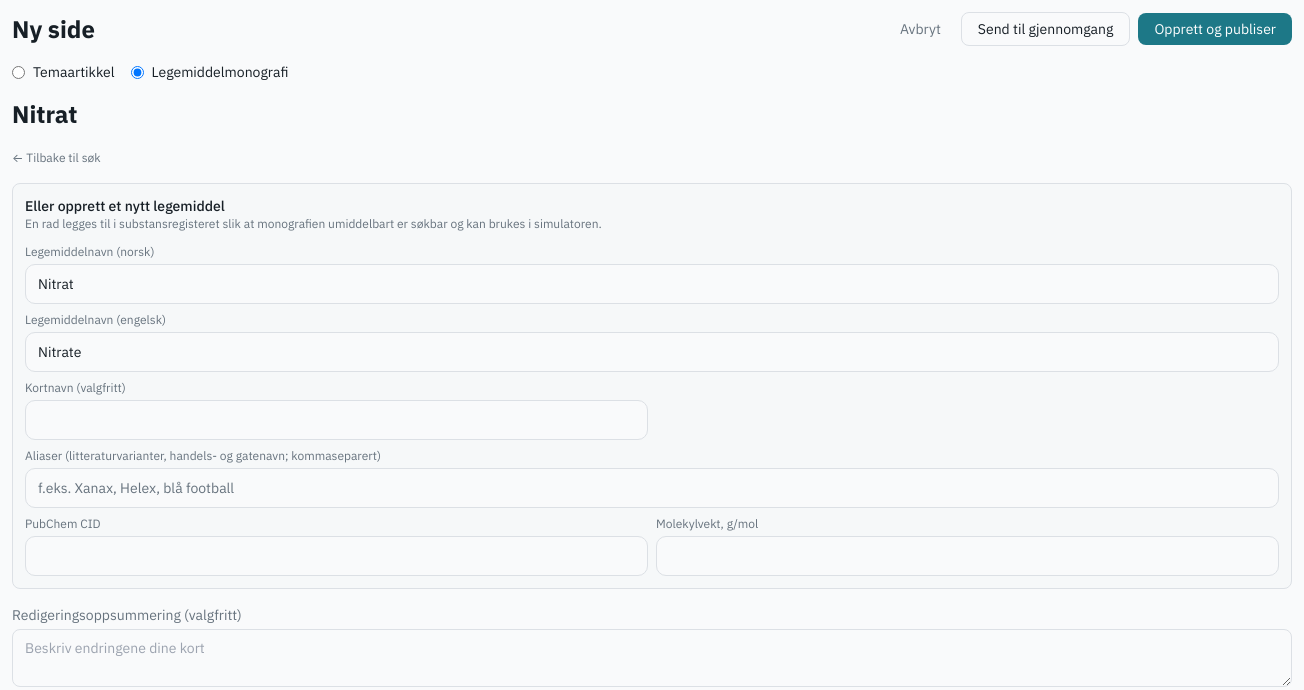
Test: WikiEditor molecular weight › still rejects genuinely non-numeric input with the plain error
The image size is (1304, 690).
Type "sixty two" into the field labelled "Molekylvekt, g/mol" at (968, 556), box [656,536,1279,576]
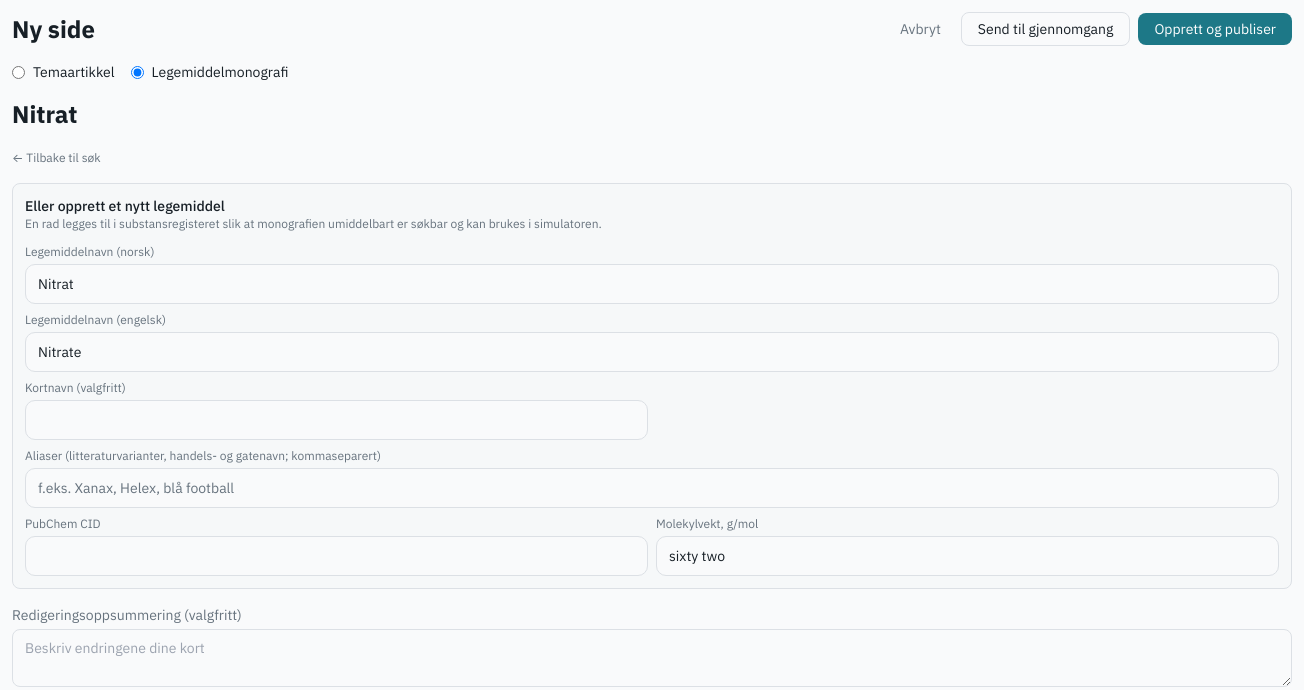
Click the button "Opprett og publiser" at (1215, 29), box [1138,13,1292,45]
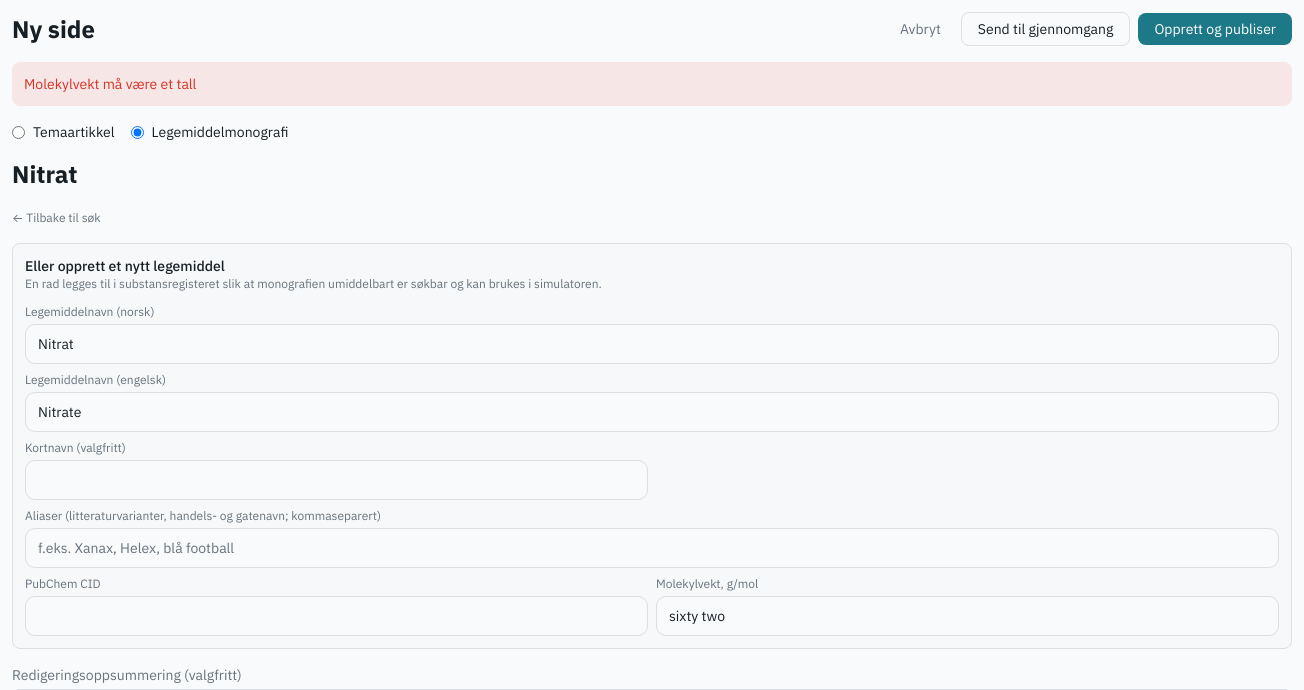
expect the text "Molekylvekt må være et tall" is shown: met, box [12,62,1292,106]
